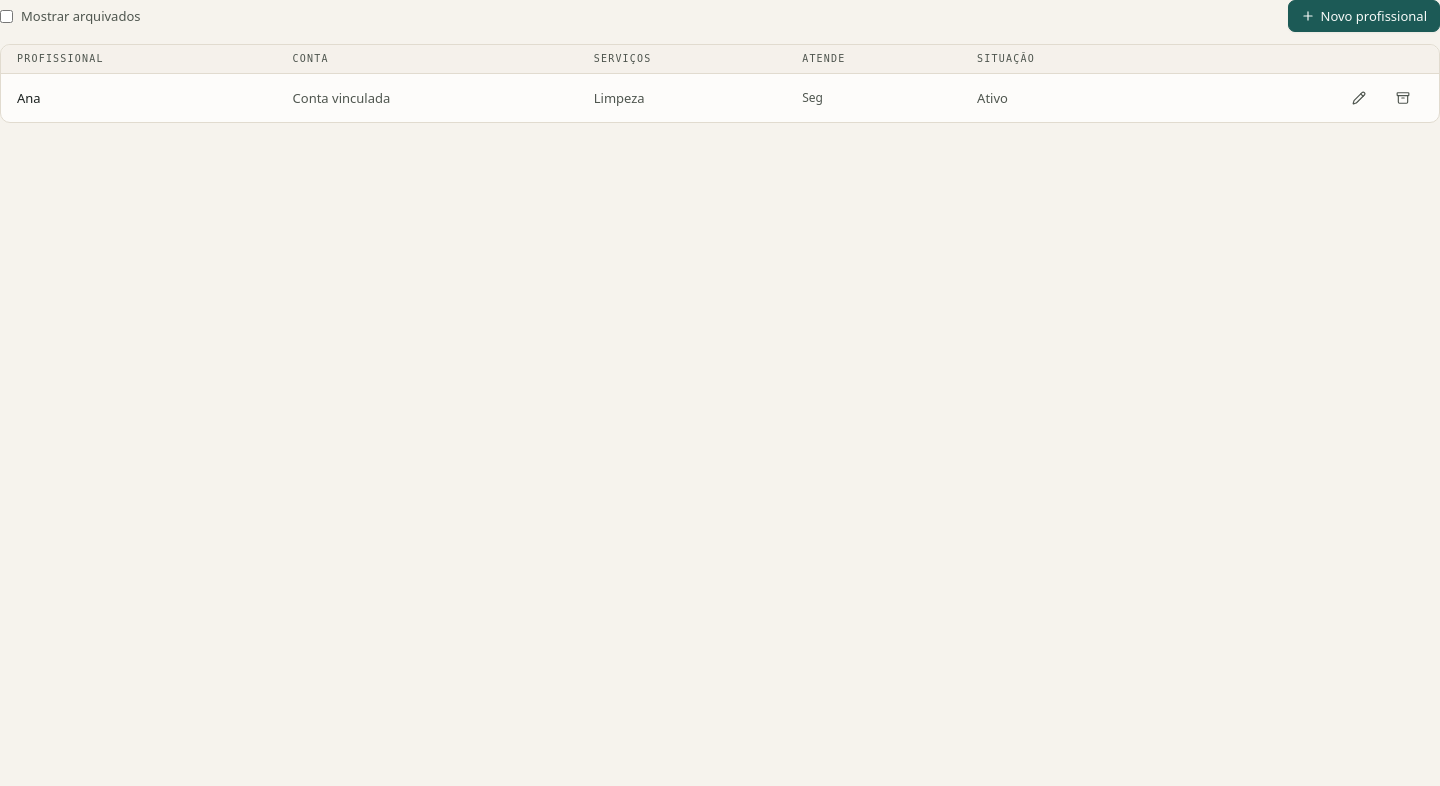
Test: drawer do profissional — limites de salvamento e o aviso do vínculo › diz que vincular conta não muda papel nem permissões, e que o vínculo é salvo à parte
This screenshot has width=1440, height=786.
Click the button named "Editar Ana". click: [1359, 98]
box: 1339,82 -> 1379,114
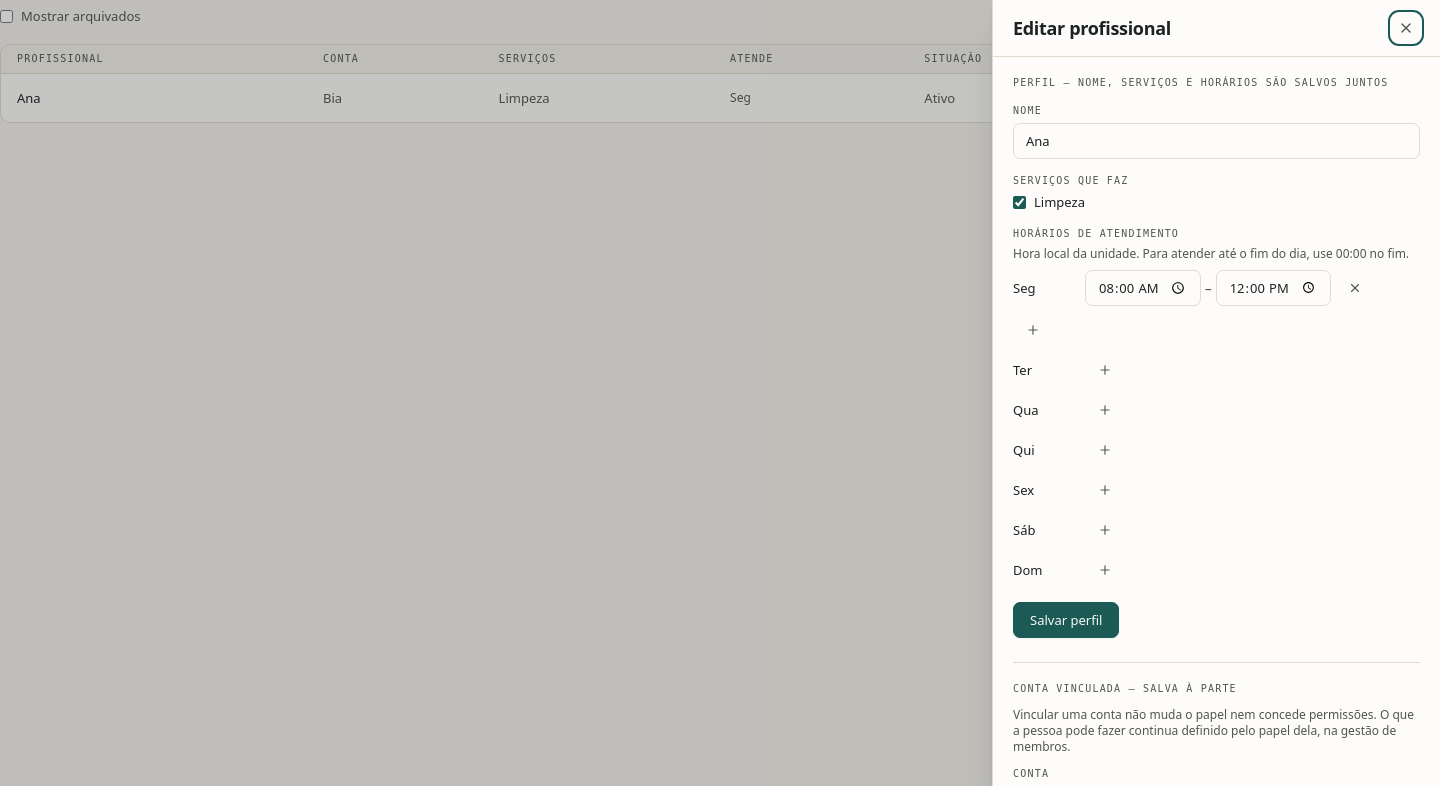
Expected: the text "Vincular uma conta não muda o papel nem concede permissões. O que a pessoa pode fazer continua definido pelo papel dela," is shown, 1013,706 -> 1414,755
Expected: the heading "Perfil — nome, serviços e horários são salvos juntos" is shown, 1013,77 -> 1420,89
Expected: the heading "Conta vinculada — salva à parte" is shown, 1013,683 -> 1237,694
